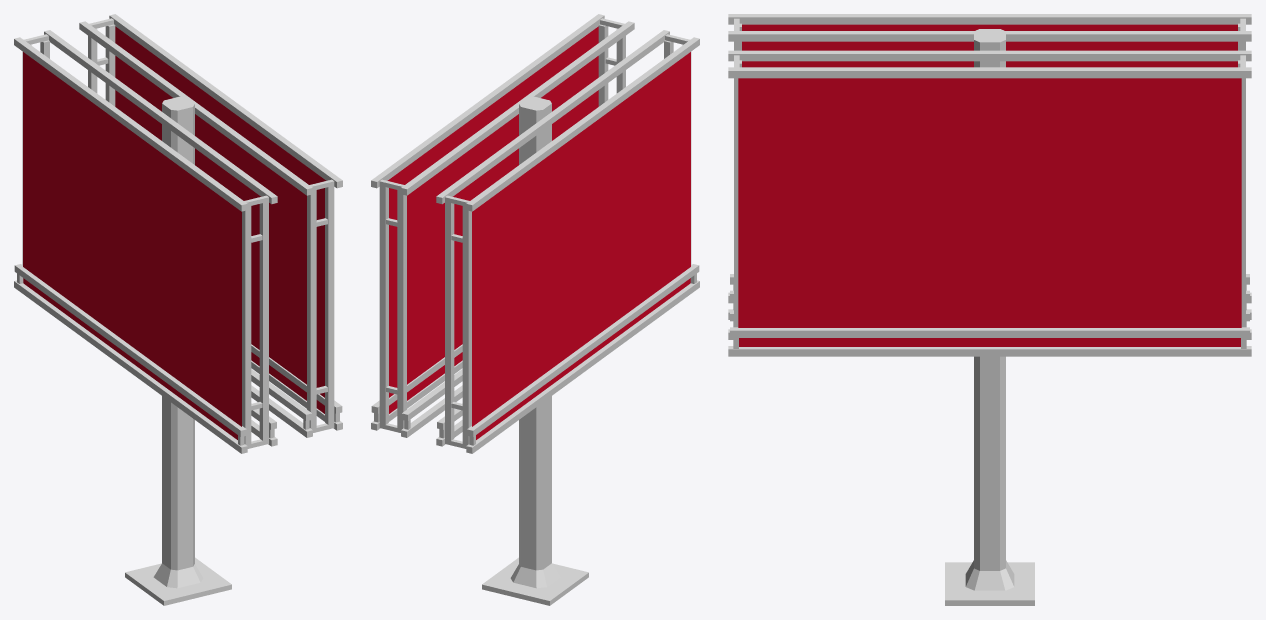
The model's file is BillBoard5.fbx.
3 views of the same model, side by side, from view 1: azimuth 30°, elevation 25°; view 2: azimuth 150°, elevation 25°; view 3: azimuth 270°, elevation 25° (orthographic). The views are drawn at different scales.
Parts seen in each view (by area): view 1: BillBoard5; view 2: BillBoard5; view 3: BillBoard5.
Part boxes in pixels (x1=…): BillBoard5: x1=14, y1=14, x2=342, y2=605; BillBoard5: x1=371, y1=14, x2=699, y2=605; BillBoard5: x1=728, y1=14, x2=1251, y2=605.
Bounding box in the file's own units: 160 × 723 × 622.
